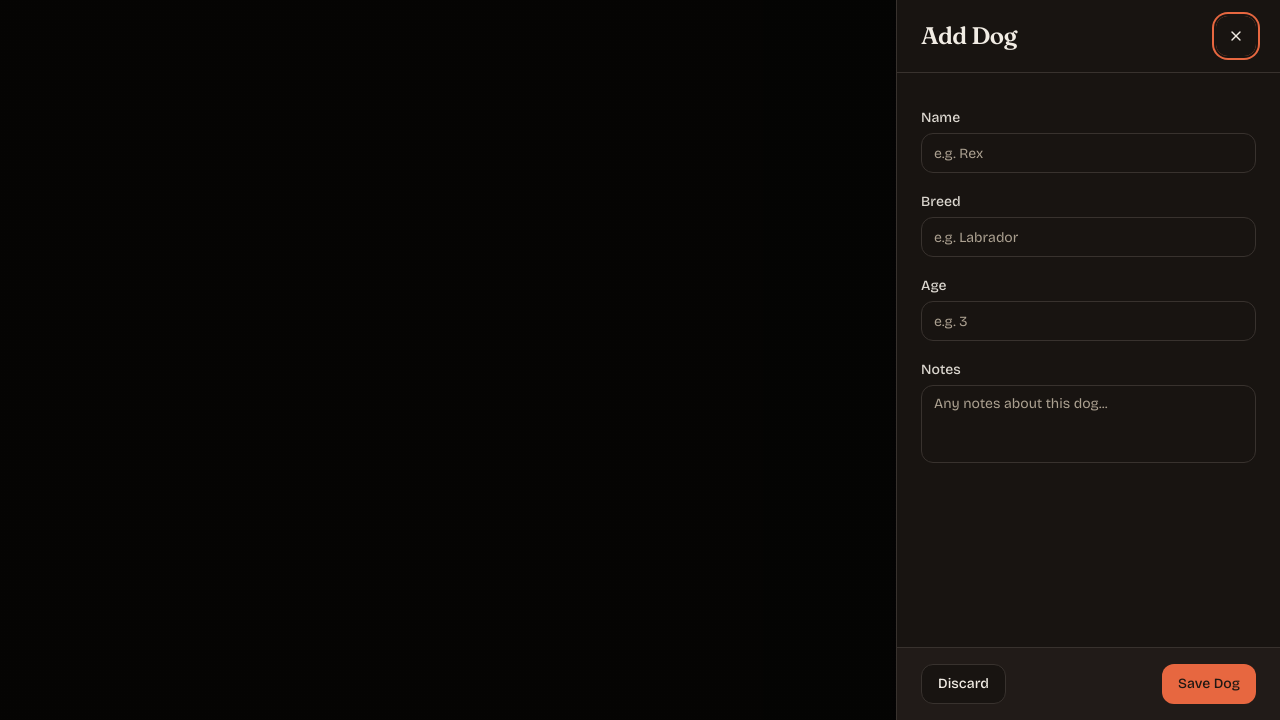
Test: DogPanel - Enter-to-save › pressing Enter on Name input with empty name shows validation error and keeps panel open
Click the field with placeholder "e.g. Rex" at (1088, 153), box [921,133,1256,173]
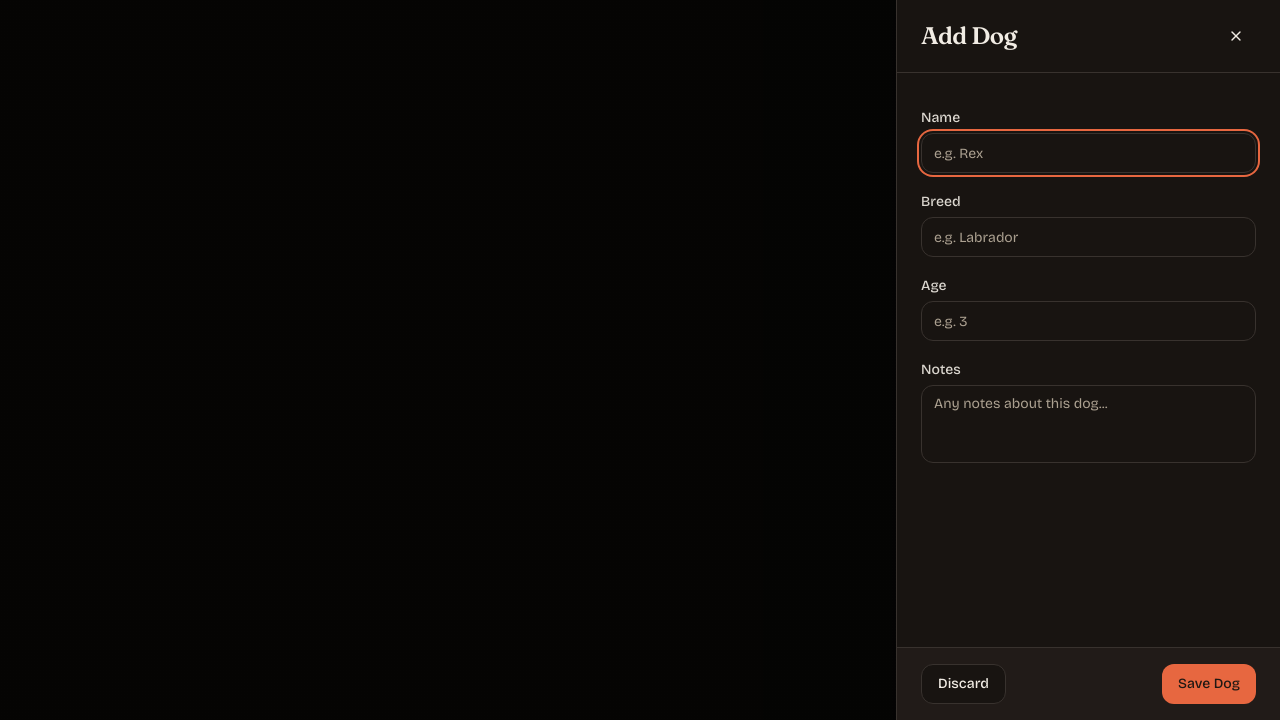
Press Enter
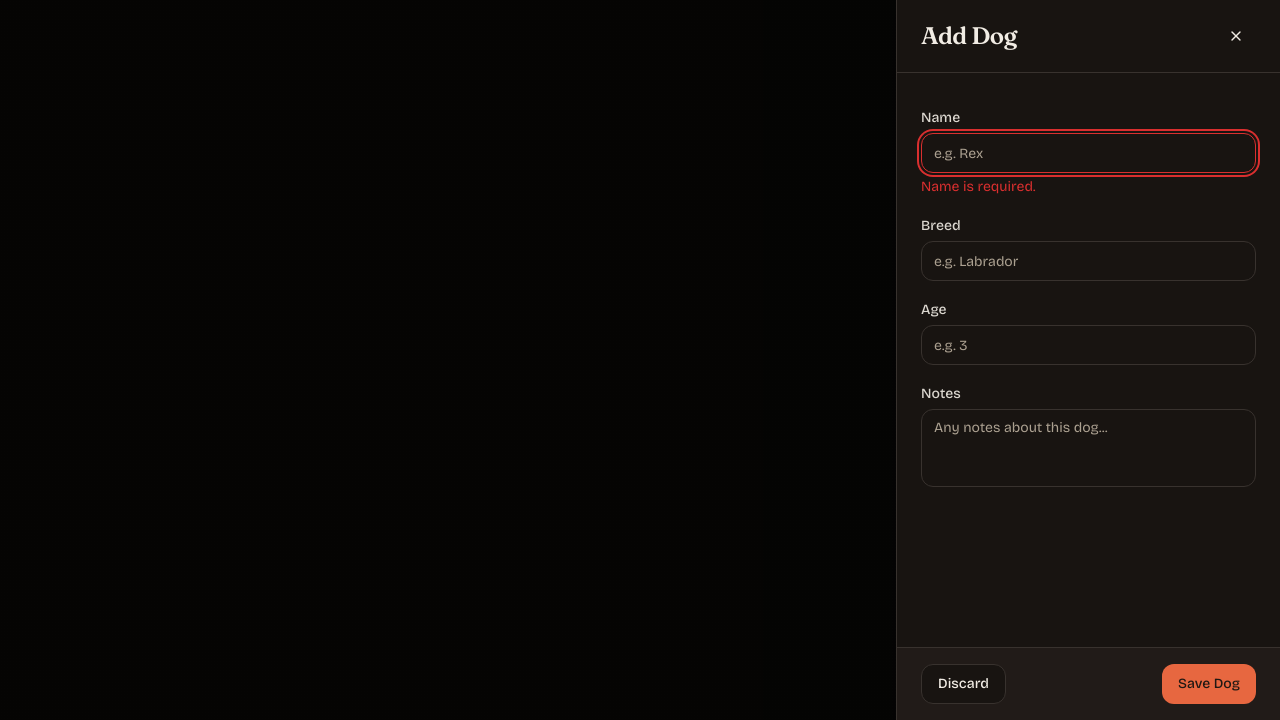
Result: the text "Name is required." is shown at [921,178,1036,195]
